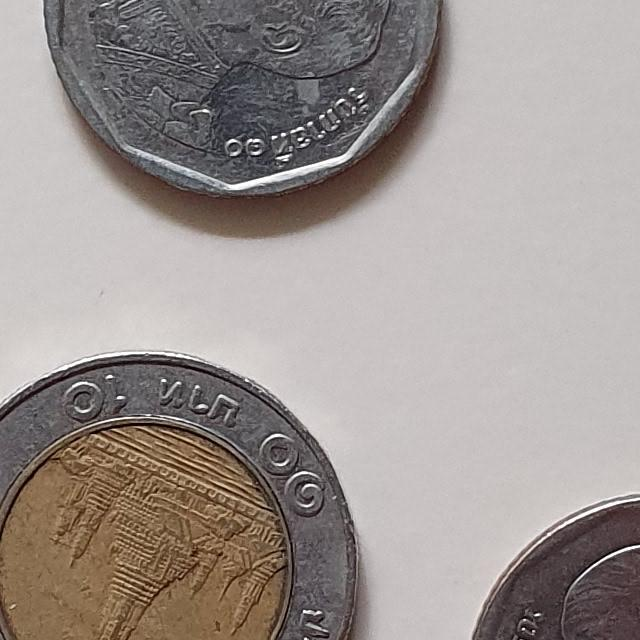10 Bath: (1, 344, 370, 640)
5 Bath: (38, 1, 451, 211), (467, 490, 640, 640)
